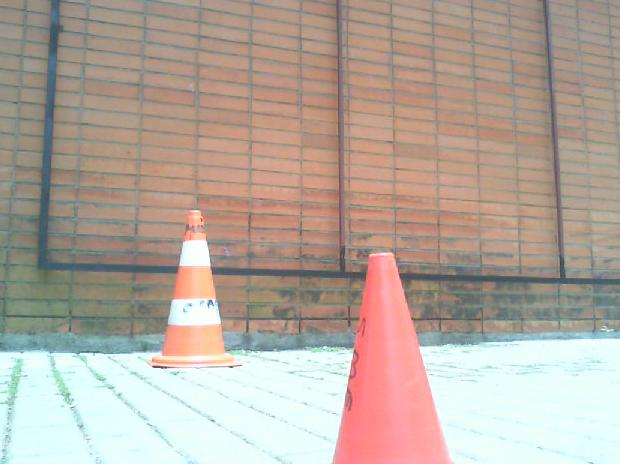0 cone: (326, 252, 458, 464), (146, 210, 242, 367)
